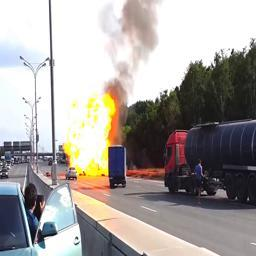fire: (64, 94, 115, 176)
